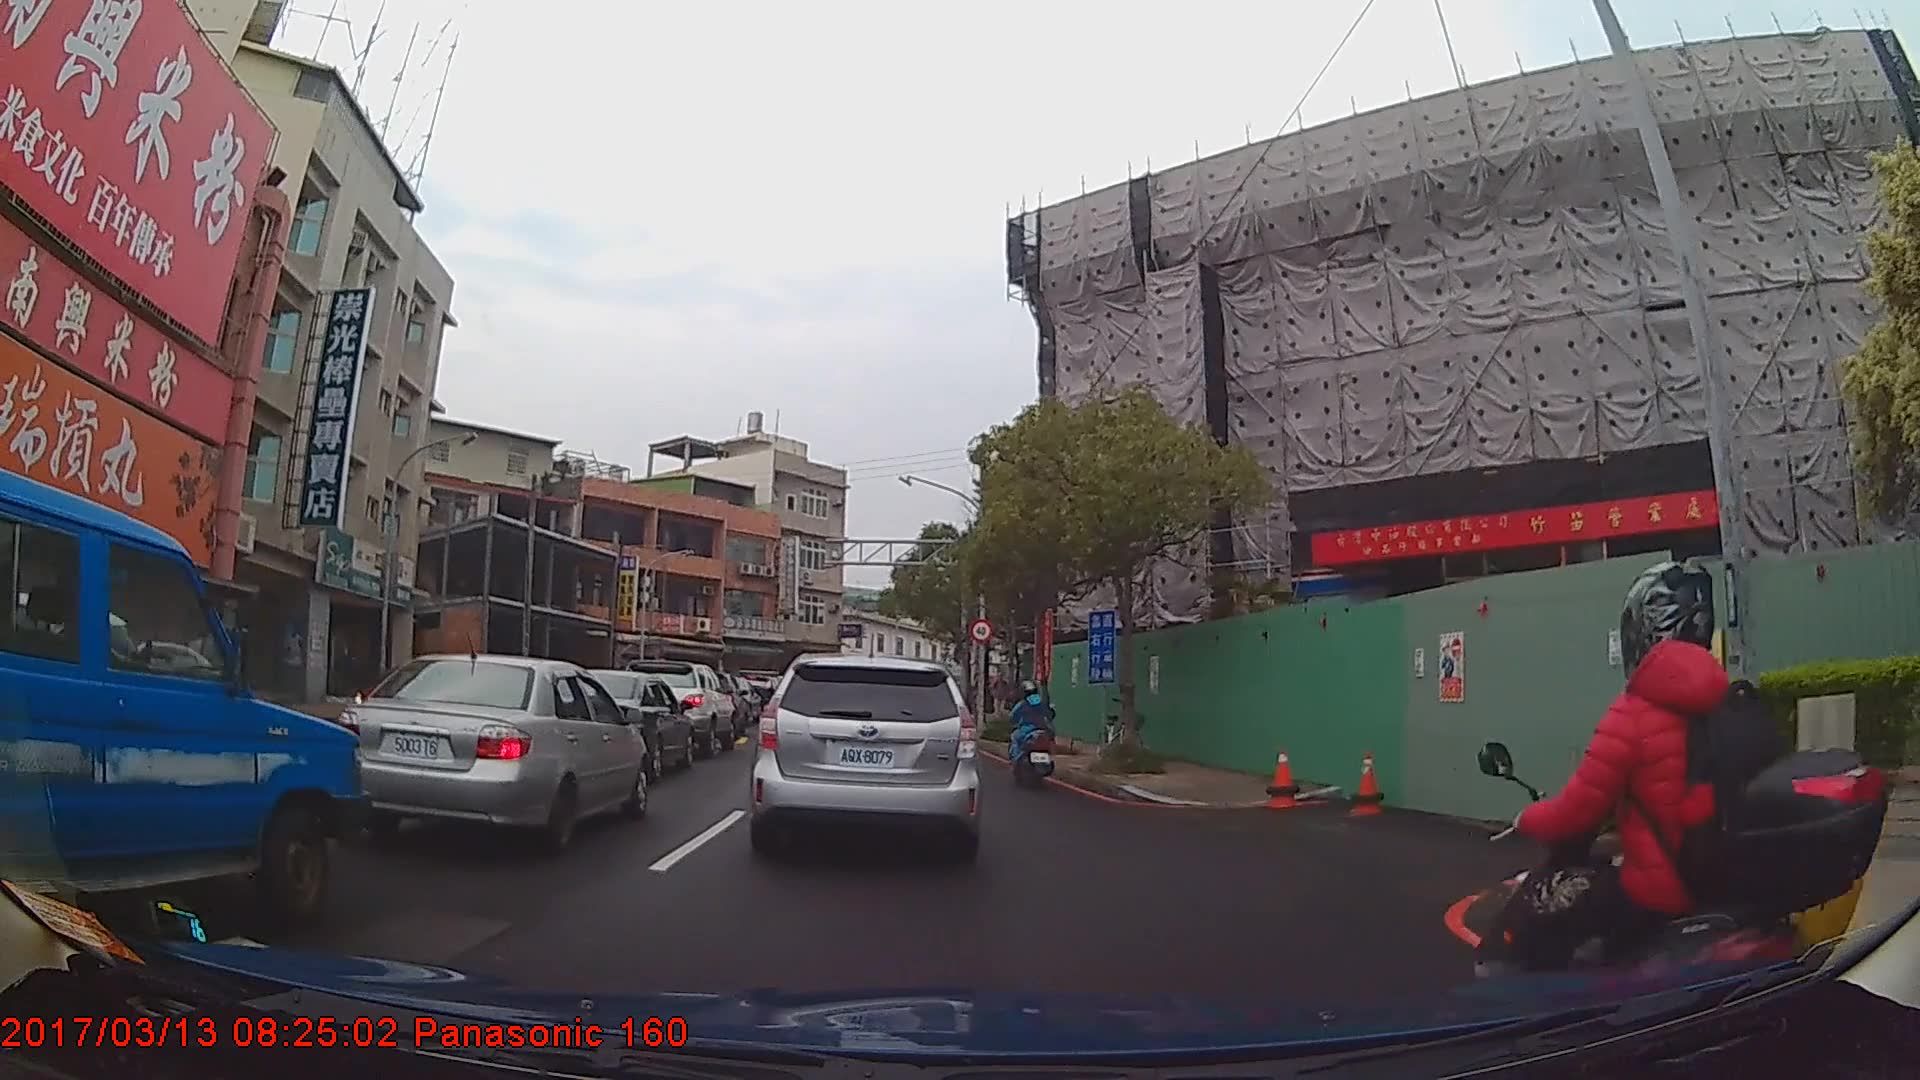rider: (1470, 557, 1891, 1080), (1007, 684, 1059, 791)
vehicle: (0, 469, 356, 956), (324, 653, 649, 860), (750, 652, 982, 857), (543, 668, 694, 779), (617, 656, 733, 759)
